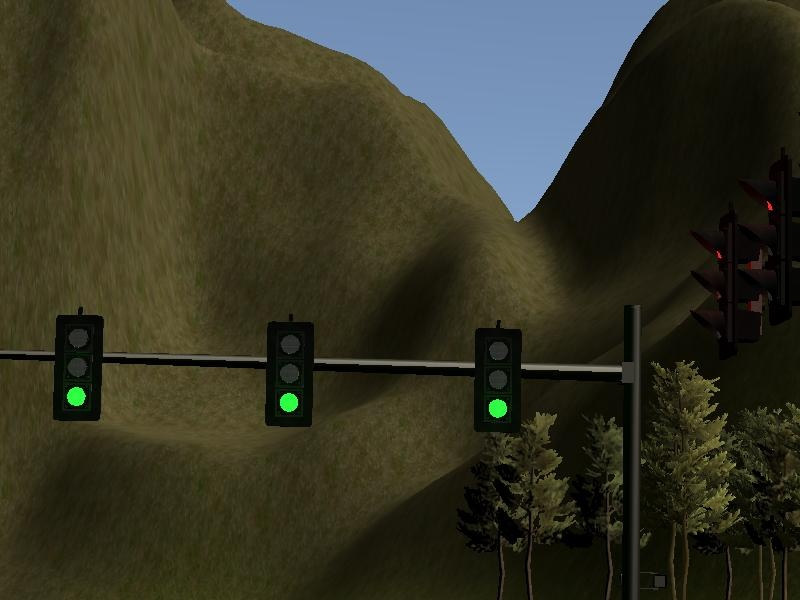GREEN: (473, 324, 522, 431), (54, 315, 102, 420), (266, 321, 312, 427)
